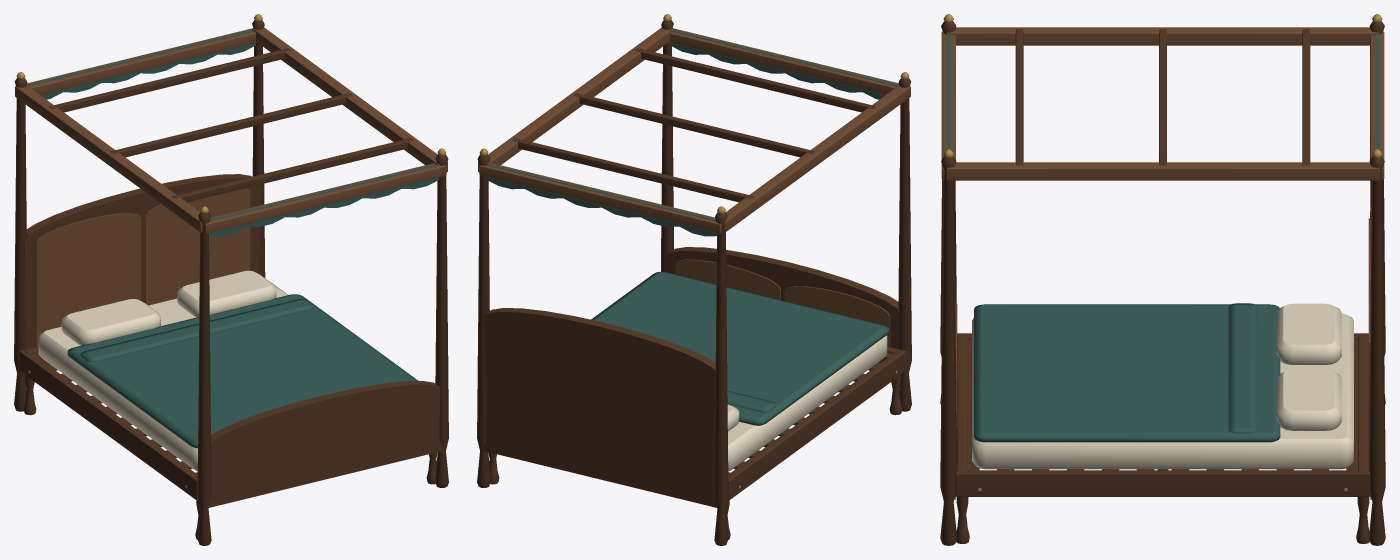
The model's file is rpg-mansion-open-tester-four-poster-bed-01.glb.
The picture shows the model from 3 angles, left to right: view 1: azimuth 30°, elevation 25°; view 2: azimuth 150°, elevation 25°; view 3: azimuth 270°, elevation 25°; orthographic projection. The views are drawn at different scales.
Parts seen in each view (by area): view 1: rpg-mansion-open-tester-four-poster-bed-01; view 2: rpg-mansion-open-tester-four-poster-bed-01; view 3: rpg-mansion-open-tester-four-poster-bed-01.
Boxes of the visible parts, x1,y1,x2,y2 form: rpg-mansion-open-tester-four-poster-bed-01: (14, 14, 448, 545); rpg-mansion-open-tester-four-poster-bed-01: (477, 14, 911, 545); rpg-mansion-open-tester-four-poster-bed-01: (940, 14, 1385, 545).
Bounding box in the file's own units: 1.74 × 2.24 × 2.3.
